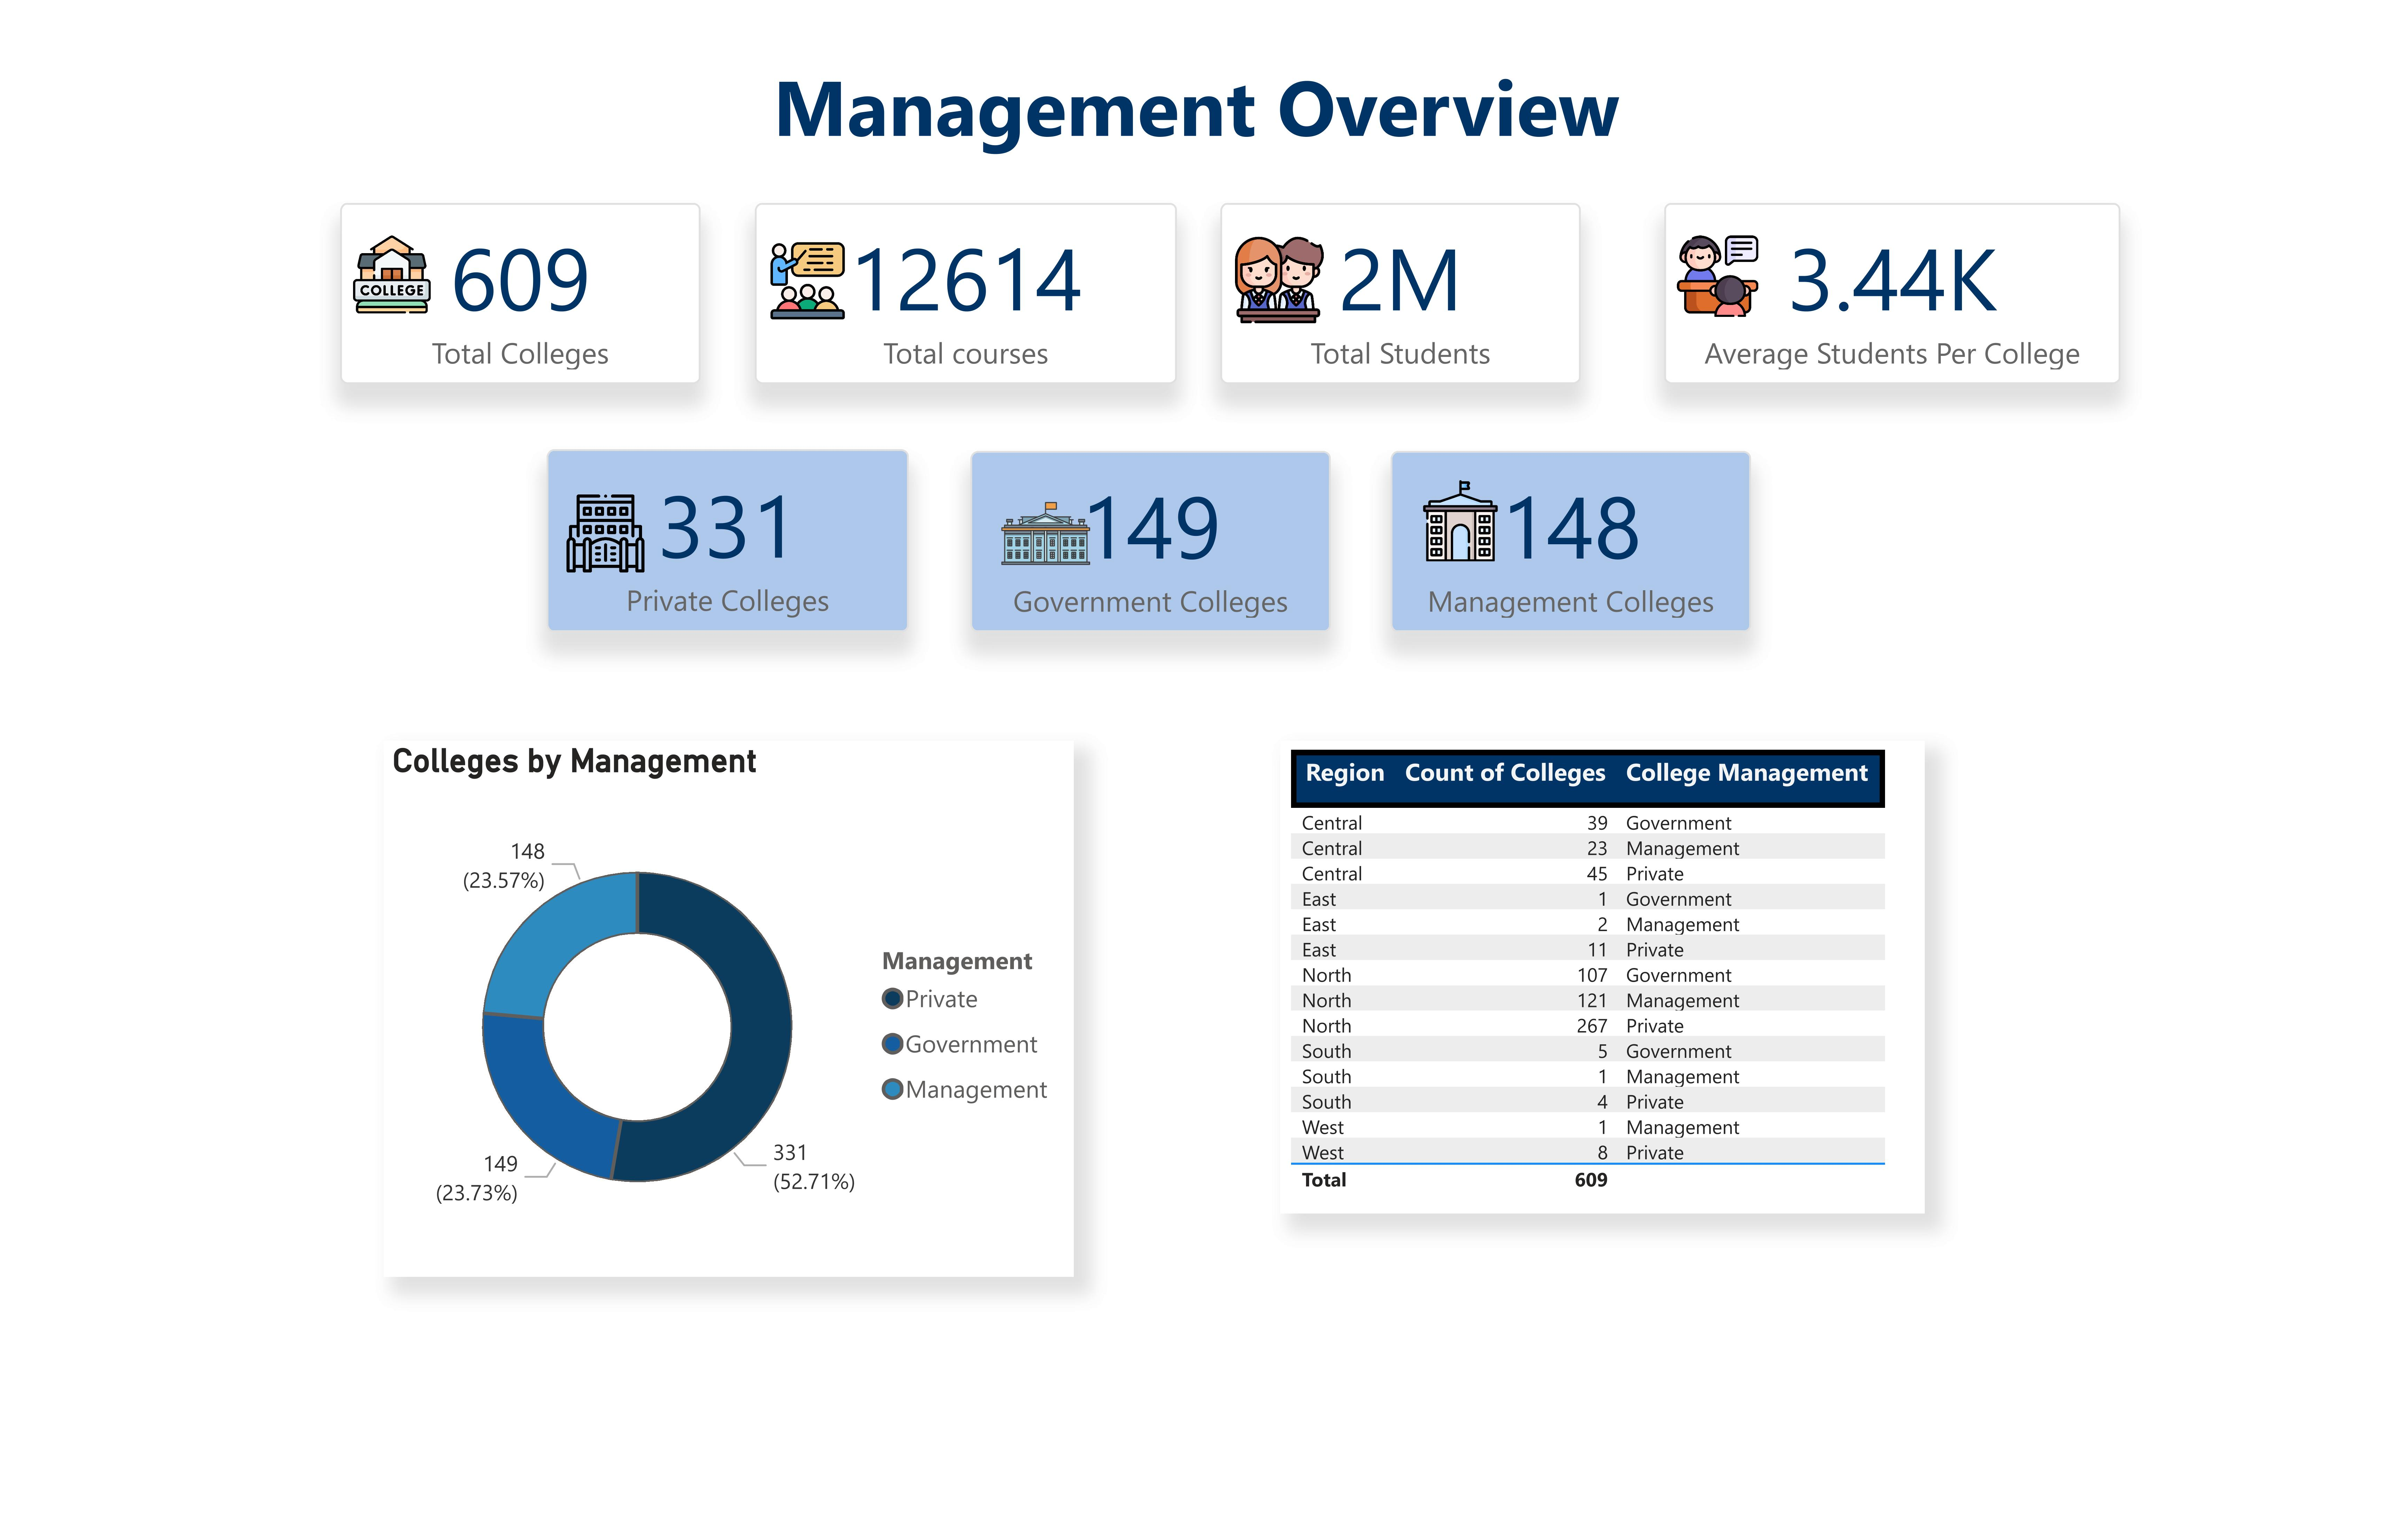

The page's visual inventory and layout, read from the dashboard file:
{"tool":"powerbi","page":{"name":"Management Overview","canvas":[1280,720],"ordinal":2},"visuals":[{"type":"textbox","box":[394.3,0,516,66.4],"z":0},{"type":"card","fields":{"Values":["Count(Sheet1.College Name)"]},"box":[276.6,224.3,200.1,100.6],"z":1000},{"type":"image","box":[287.7,230.3,43.2,80.5],"z":2000},{"type":"card","fields":{"Values":["Count(Sheet1.College Name)"]},"box":[511.3,225.3,199.1,99.6],"z":3000},{"type":"image","box":[524.3,248.4,56.3,44.3],"z":4000},{"type":"card","fields":{"Values":["Count(Sheet1.College Name)"]},"box":[743.3,225.3,199.1,99.6],"z":5000},{"type":"image","box":[753.3,241.4,56.3,44.3],"z":6000},{"type":"card","fields":{"Values":["Count(Sheet1.College Name)"]},"box":[162.7,87.5,199.5,100.3],"z":7000},{"type":"card","fields":{"Values":["Sum(Sheet1.Total no. of Courses)"]},"box":[392.2,87.5,232.6,100.3],"z":8000},{"type":"card","fields":{"Values":["Sum(Sheet1.Student Strength)"]},"box":[648.7,87.5,199.5,100.3],"z":9000},{"type":"card","fields":{"Values":["Avg(Sheet1.Student Strength)"]},"box":[893.7,87.5,252.3,100.3],"z":10000},{"type":"image","box":[170,87.5,43.4,79.6],"z":11000},{"type":"image","box":[392.2,109.2,56.9,43.4],"z":12000},{"type":"image","box":[606.3,106.1,151,48.6],"z":13000},{"type":"image","box":[848.2,106.1,151,44.5],"z":14000},{"type":"donutChart","fields":{"Category":["Sheet1.College Management"],"Y":["Count(Sheet1.College Name)"]},"box":[187.1,385.2,381.2,295.7],"z":15000},{"type":"tableEx","fields":{"Values":["Sheet1.Region","Sheet1.College Name","Sheet1.College Management"]},"box":[682,385,393,296],"z":16000}]}

Visuals, with their boxes on the page's 1280x720 design canvas (x1, y1, x2, y2). These are canvas units, not pixel positions in the 2408x1521 screenshot, which may show the page scaled, cropped or inside an application window:
textbox: [394, 0, 910, 66]
card - Count(Sheet1.College Name): [277, 224, 477, 325]
image: [288, 230, 331, 311]
card - Count(Sheet1.College Name): [511, 225, 710, 325]
image: [524, 248, 581, 293]
card - Count(Sheet1.College Name): [743, 225, 942, 325]
image: [753, 241, 810, 286]
card - Count(Sheet1.College Name): [163, 88, 362, 188]
card - Sum(Sheet1.Total no. of Courses): [392, 88, 625, 188]
card - Sum(Sheet1.Student Strength): [649, 88, 848, 188]
card - Avg(Sheet1.Student Strength): [894, 88, 1146, 188]
image: [170, 88, 213, 167]
image: [392, 109, 449, 153]
image: [606, 106, 757, 155]
image: [848, 106, 999, 151]
donutChart - Sheet1.College Management x Count(Sheet1.College Name): [187, 385, 568, 681]
tableEx - Sheet1.Region x Sheet1.College Name: [682, 385, 1075, 681]
